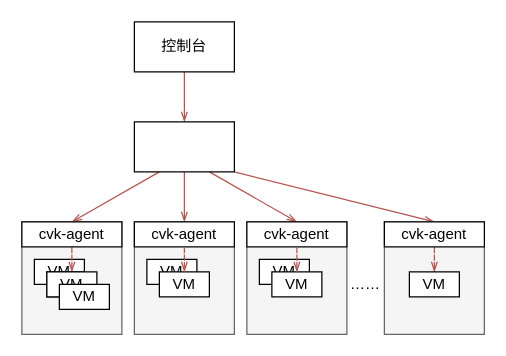
The diagram is 506 pixels wide and 356 high, and some of its shapes have lost their labels. The box of each missing label's shape, as (x1, y1, x2, y2) in pixels:
宿主机1: (21, 221, 122, 334)
宿主机2: (133, 221, 234, 334)
宿主机3: (246, 221, 347, 334)
宿主机n: (383, 221, 484, 334)
计算控制器: (133, 121, 234, 172)
